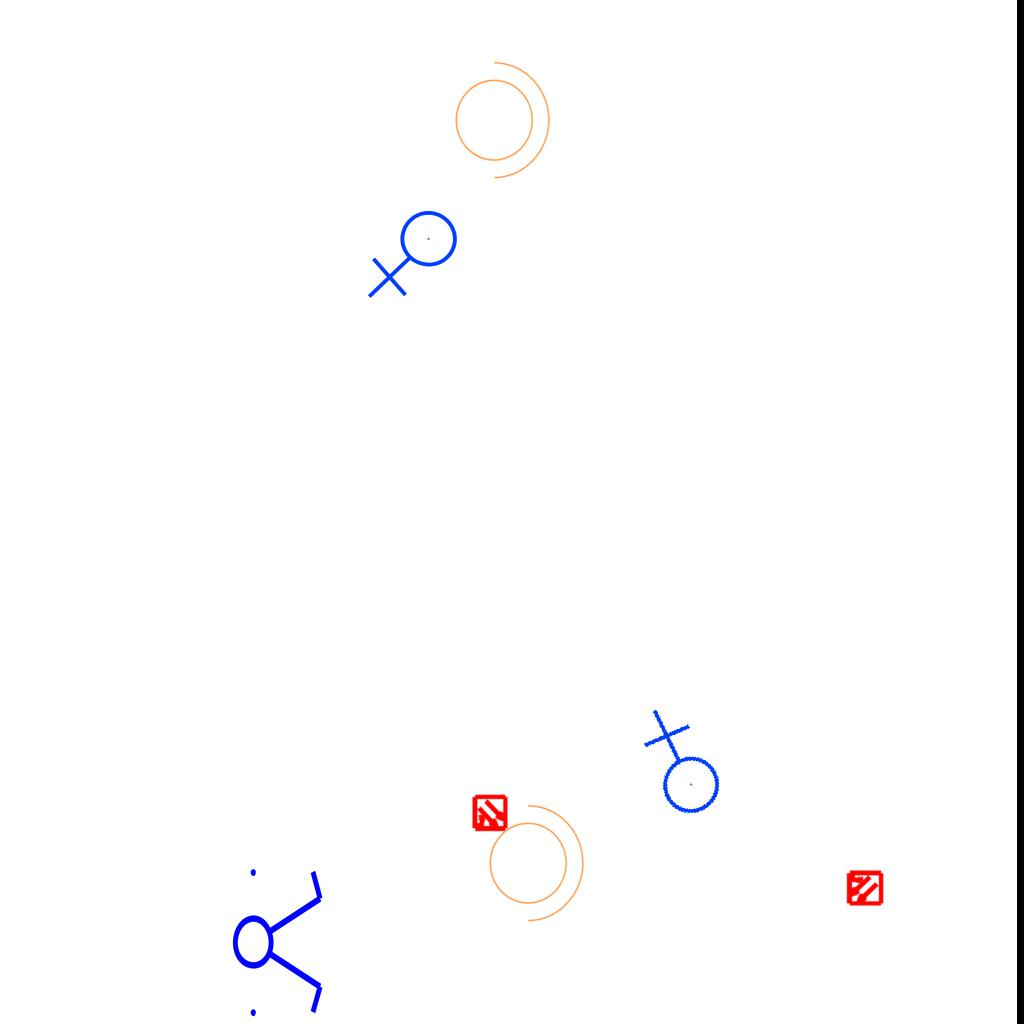Elektroanschluss_allgemein_230V_Geraeteanschlussdose_230V: (618, 706, 739, 830), (367, 209, 466, 303)
OT_Multisensormelder_(Kombination_RMO_WMD): (836, 860, 892, 916), (462, 786, 518, 842)
Scheinwerfer_fuer_Alarmbeleuchtung: (443, 51, 555, 183), (477, 794, 589, 926)
Serienschalter: (231, 857, 327, 1024)
